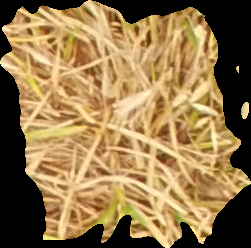soil: (1, 1, 250, 248)
